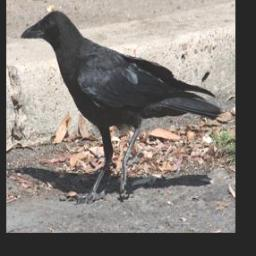Crow: (19, 6, 221, 201)
